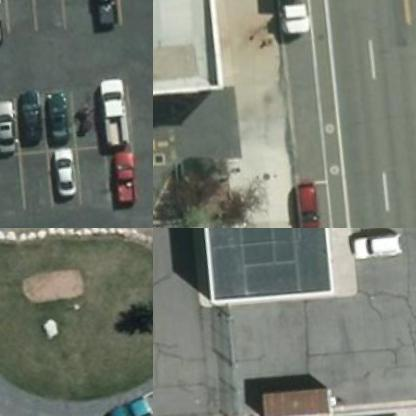car: (91, 73, 133, 144), (105, 142, 145, 204), (286, 174, 329, 227), (98, 375, 152, 415), (47, 139, 81, 198), (40, 86, 74, 145), (12, 84, 46, 143), (348, 228, 406, 261), (0, 98, 21, 158), (80, 0, 120, 26)
